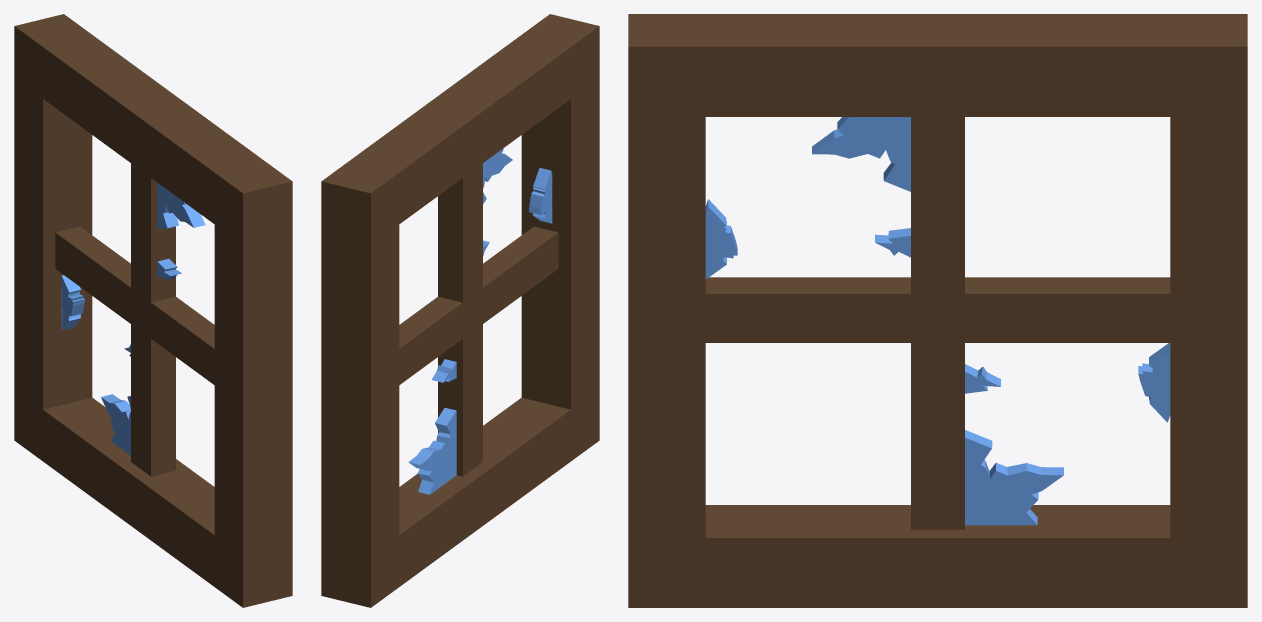
Rendered from Broken Window Frame.fbx.
3 views of the same model, side by side, from view 1: azimuth 30°, elevation 25°; view 2: azimuth 150°, elevation 25°; view 3: azimuth 270°, elevation 25° (orthographic). The views are drawn at different scales.
Visible parts, largest first — view 1: Window_Frame, Inside Window Frame, Broken Glass.001, Broken Glass; view 2: Window_Frame, Inside Window Frame, Broken Glass.001, Broken Glass; view 3: Window_Frame, Inside Window Frame, Broken Glass.001, Broken Glass.
Boxes of the visible parts, box(x1,y1,x2,y2) form: Window_Frame: box(14, 14, 292, 607); Inside Window Frame: box(55, 163, 214, 476); Broken Glass.001: box(61, 275, 130, 455); Broken Glass: box(157, 183, 205, 280); Window_Frame: box(321, 14, 599, 607); Inside Window Frame: box(399, 163, 558, 476); Broken Glass.001: box(408, 359, 456, 494); Broken Glass: box(483, 148, 552, 255); Window_Frame: box(628, 14, 1247, 607); Inside Window Frame: box(705, 117, 1170, 529); Broken Glass.001: box(965, 343, 1170, 525); Broken Glass: box(705, 117, 910, 279).
Bounding box in the file's own units: 39.98 × 320 × 320.
